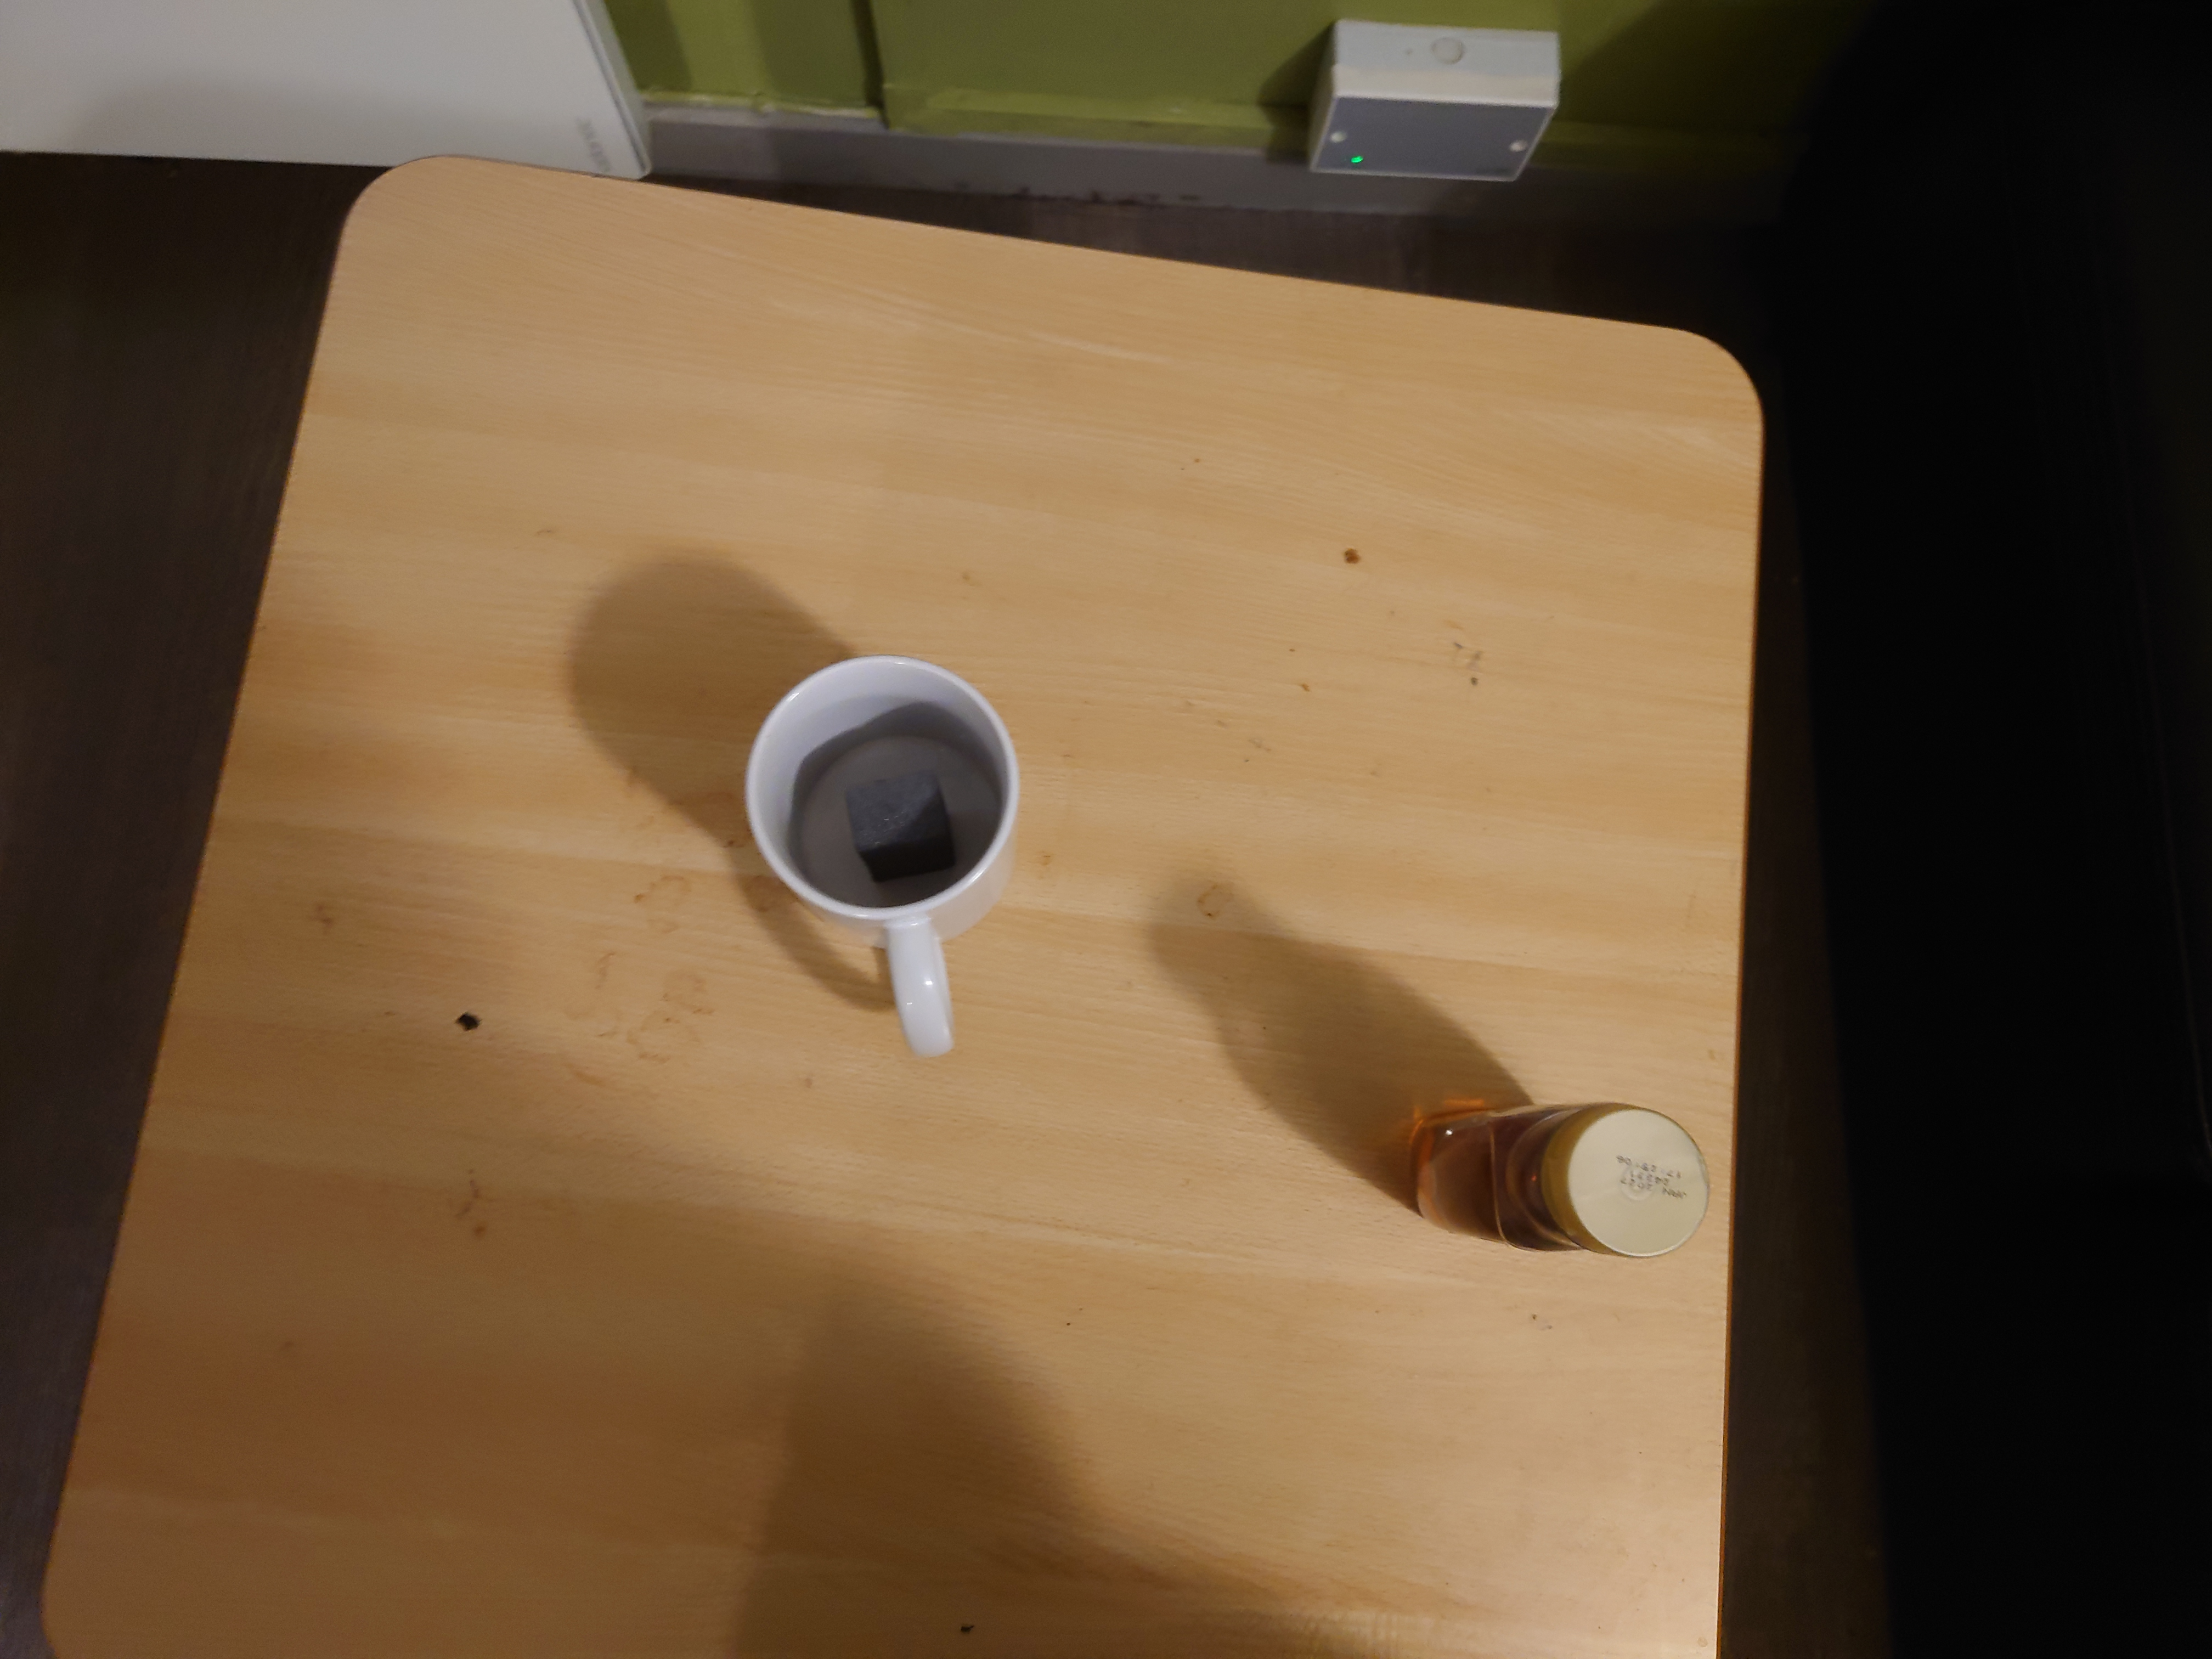cup: (744, 652, 1028, 1063)
target: (846, 769, 954, 885)
